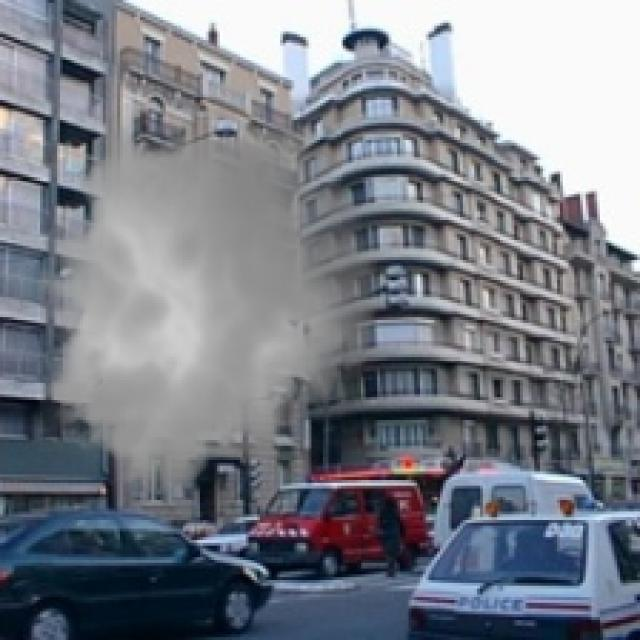Smoke: (22, 109, 388, 508)
